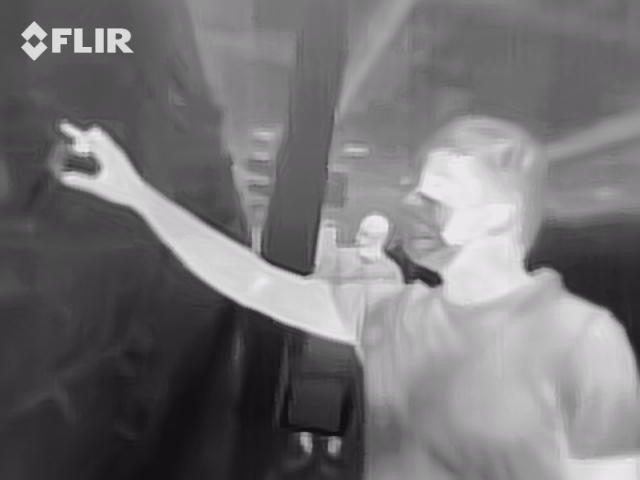head: (398, 110, 547, 274), (354, 210, 395, 250)
